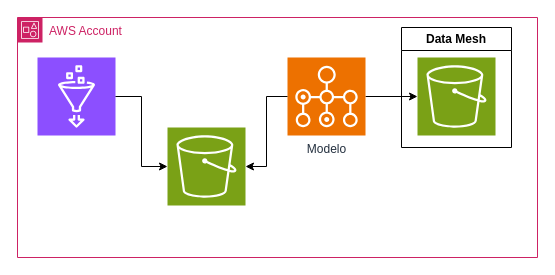
The diagram is 555 pixels wide and 275 high, and some of its shapes have lost their labels. Each missing label, with the centre of its shape:
"DataPrep" belongs at [76,96].
"Stage" belongs at [206,166].
